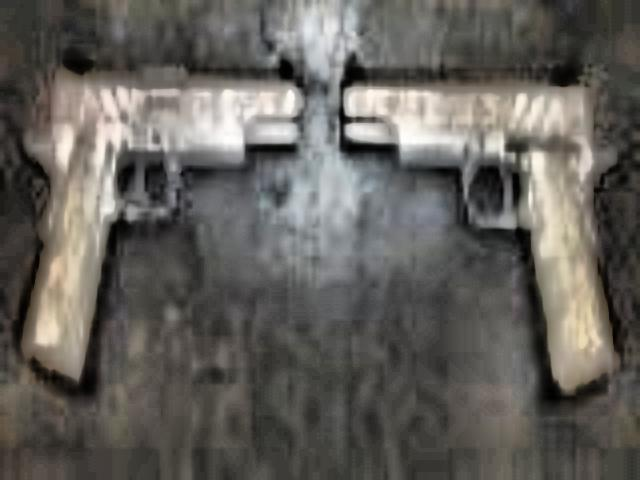pistol: (12, 40, 304, 384), (340, 44, 616, 404)
